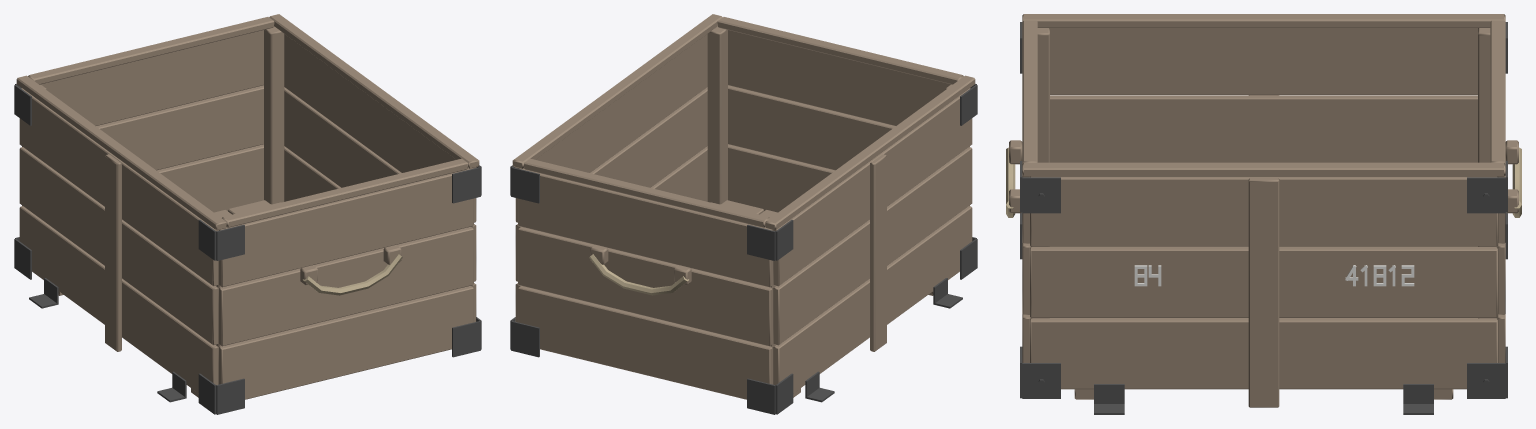
File: stash_crate.glb
3 views of the same model, side by side, from view 1: azimuth 30°, elevation 25°; view 2: azimuth 150°, elevation 25°; view 3: azimuth 270°, elevation 25° (orthographic). The views are drawn at different scales.
Parts seen in each view (by area): view 1: crate; view 2: crate; view 3: crate.
Boxes of the visible parts, <box> form: crate: <box>14,14,481,414</box>; crate: <box>510,14,977,414</box>; crate: <box>1006,14,1521,414</box>.
Size of the model in its own units: 1.07 by 0.675 by 1.33.
